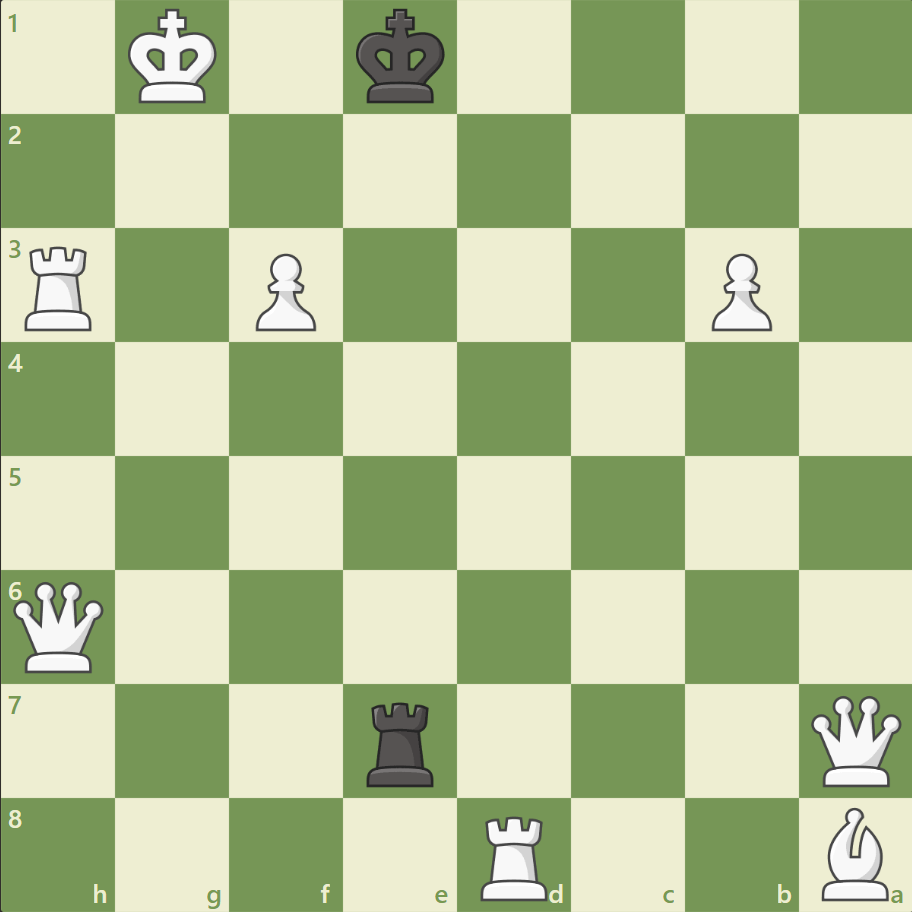B: (812, 801, 896, 904)
K: (124, 4, 224, 112)
P: (701, 246, 776, 337), (247, 246, 322, 337)
Q: (10, 576, 109, 676), (805, 690, 904, 789)
R: (473, 806, 556, 904), (19, 239, 102, 336)
k: (351, 4, 451, 112)
r: (360, 693, 442, 790)
